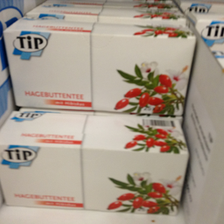tea: (1, 109, 191, 215), (3, 15, 197, 114)
